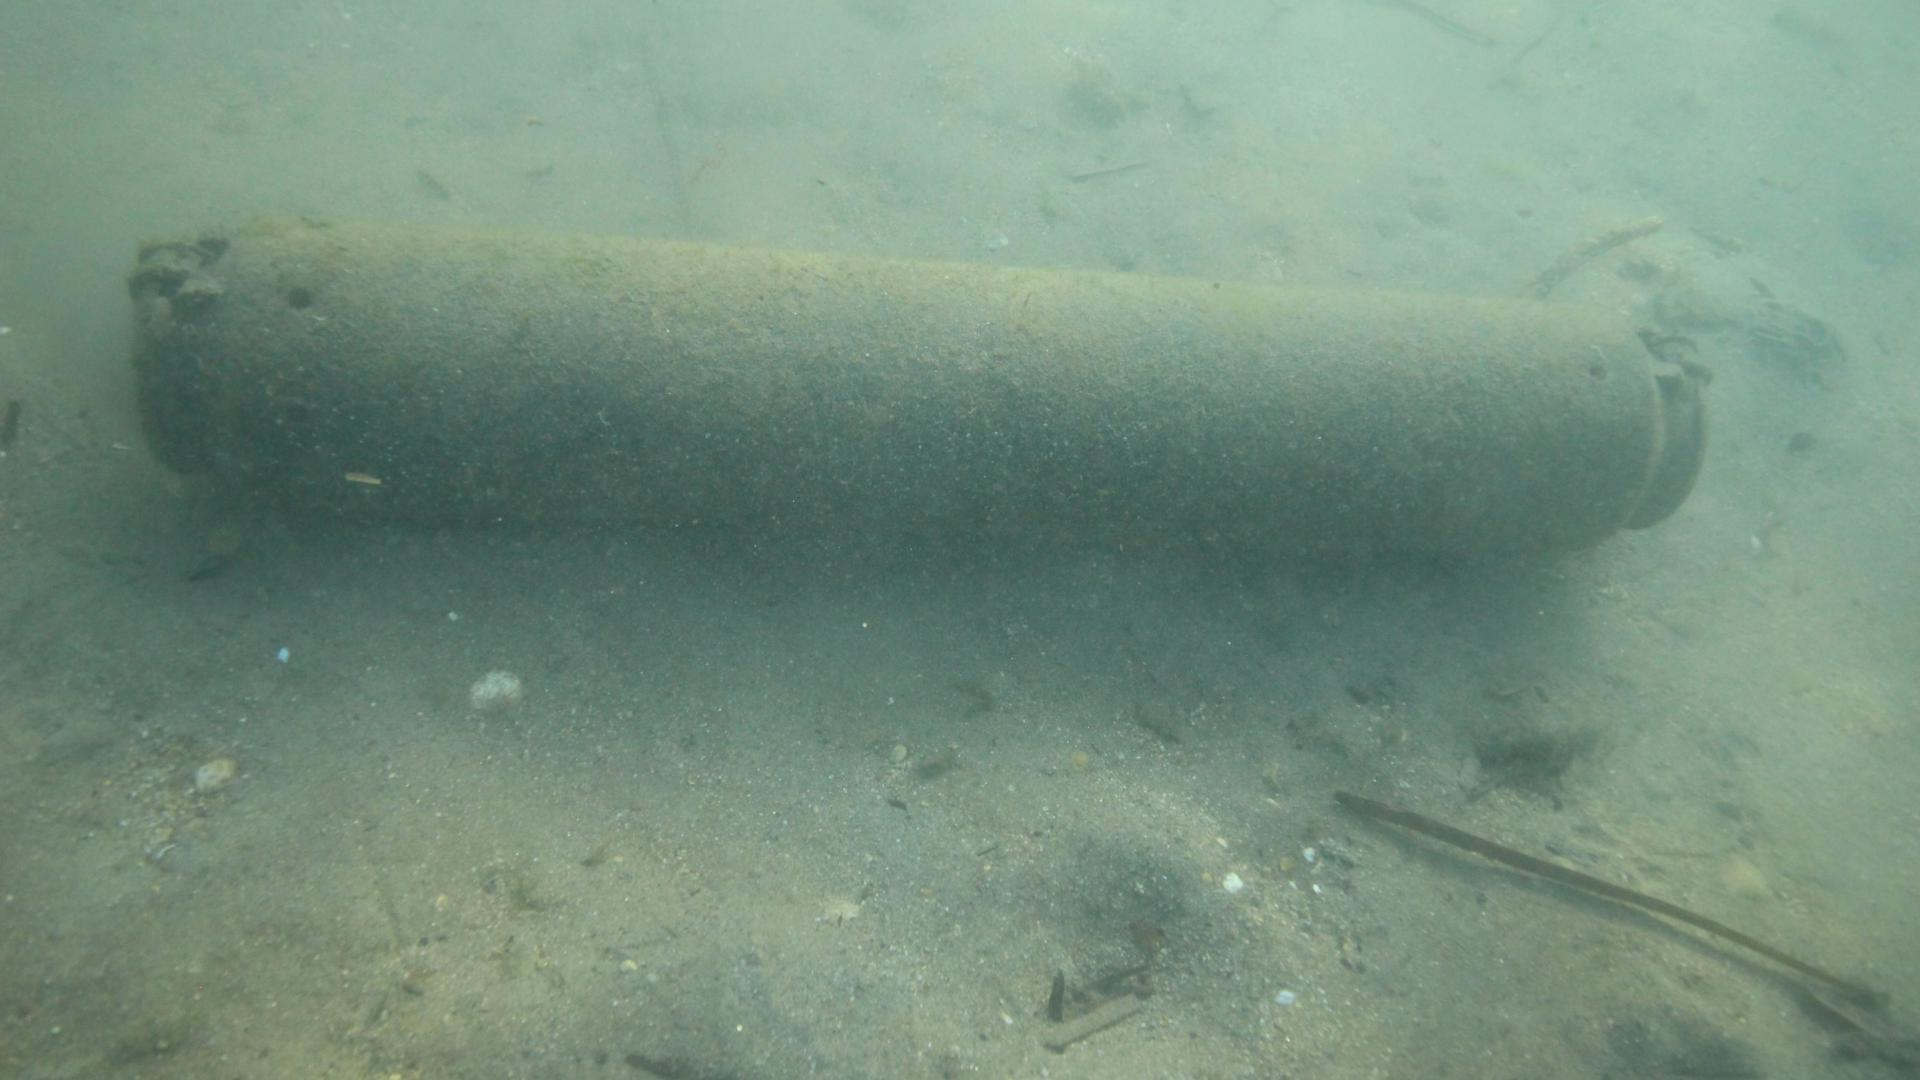eel fish trap: (132, 218, 1712, 553)
